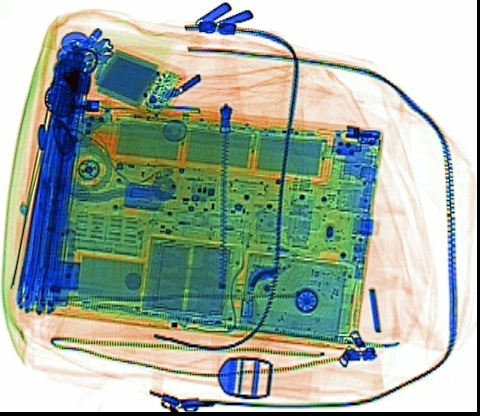powerbank: (88, 44, 186, 118)
